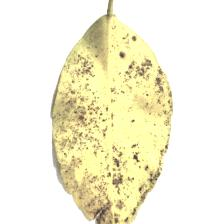canker: (71, 77, 143, 190)
